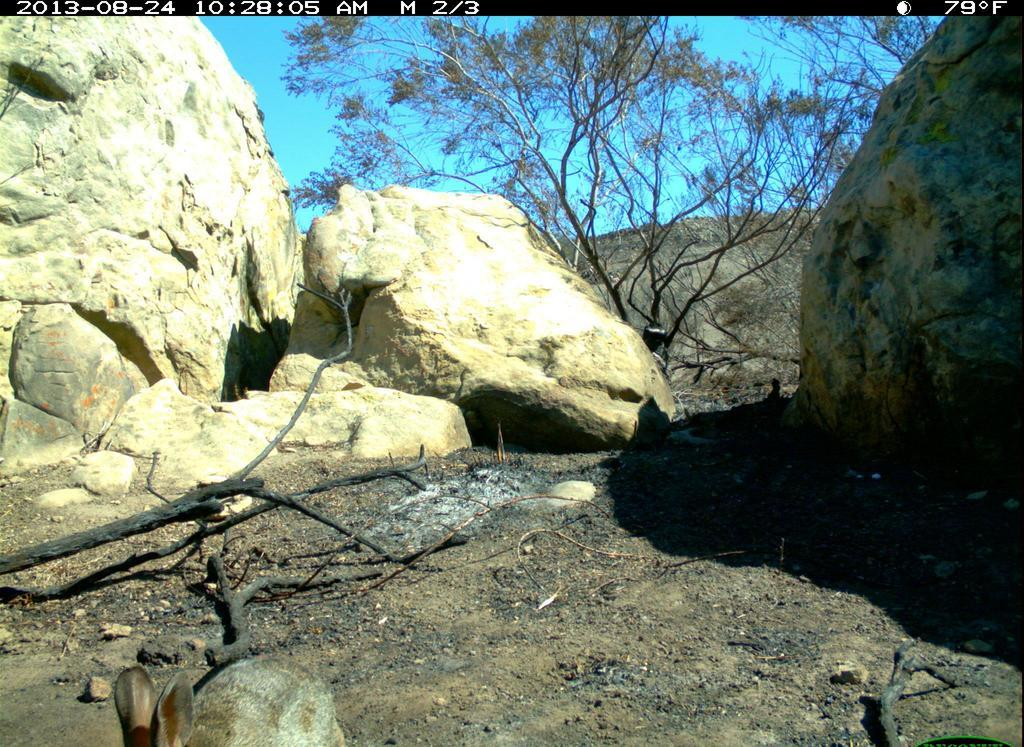rabbit: (113, 649, 354, 747)
